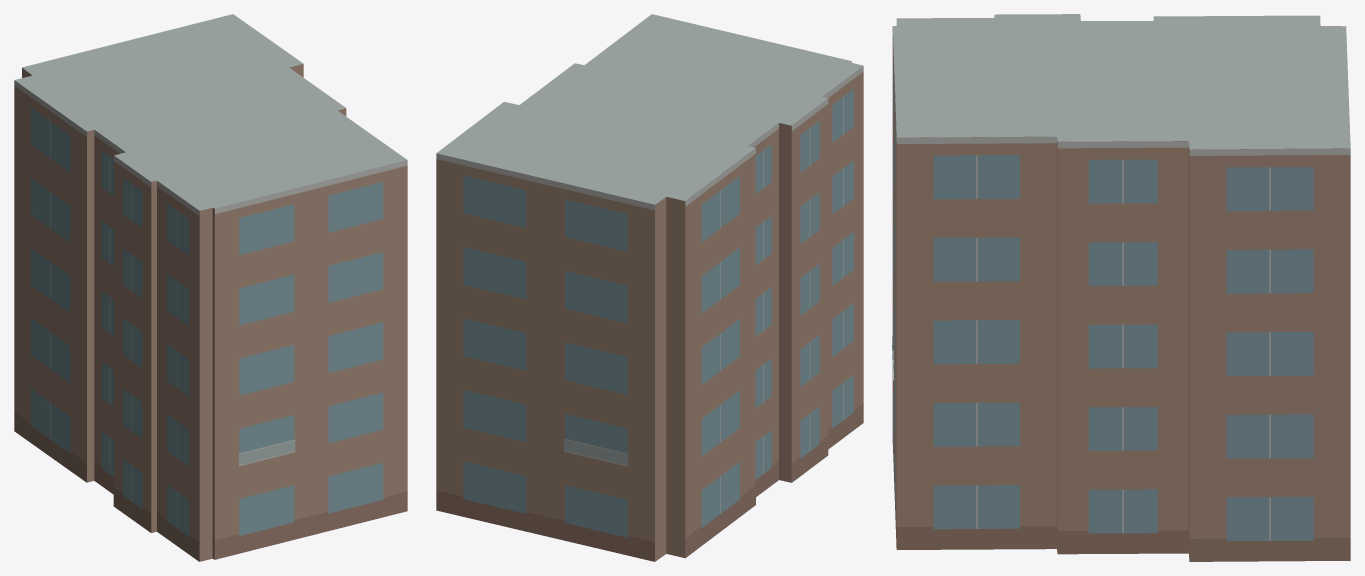
File: survey-upis-32549437.glb
3 renders of one model, left to right at view 1: azimuth 30°, elevation 25°; view 2: azimuth 150°, elevation 25°; view 3: azimuth 270°, elevation 25°, orthographic. The views are drawn at different scales.
Visible parts, largest first — view 1: survey-upis-32549437.tmp; view 2: survey-upis-32549437.tmp; view 3: survey-upis-32549437.tmp.
Part boxes in pixels (x1,y1,x2,y2): survey-upis-32549437.tmp: [14, 14, 407, 561]; survey-upis-32549437.tmp: [436, 14, 863, 561]; survey-upis-32549437.tmp: [892, 14, 1350, 561].
Size of the model in its own units: 10.86 by 15.4 by 15.53.
